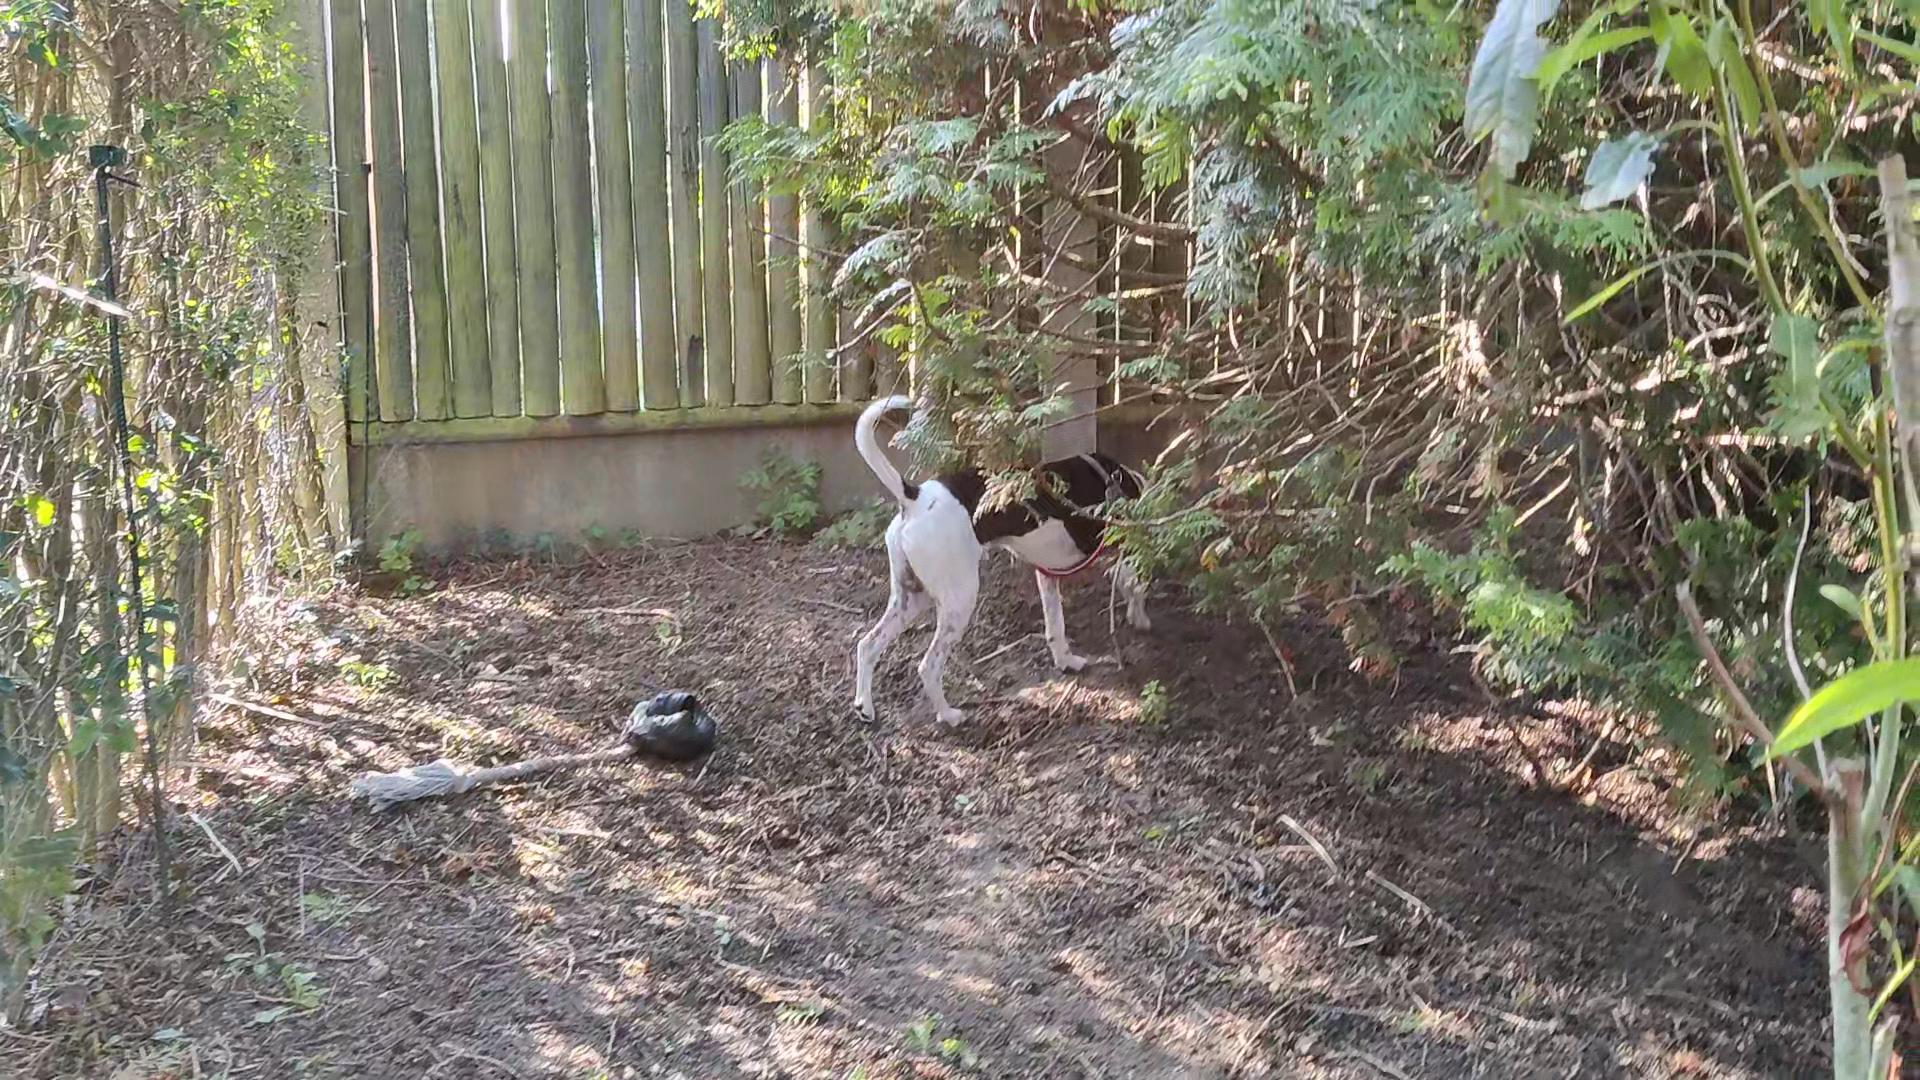Dog: (829, 388, 1189, 736)
